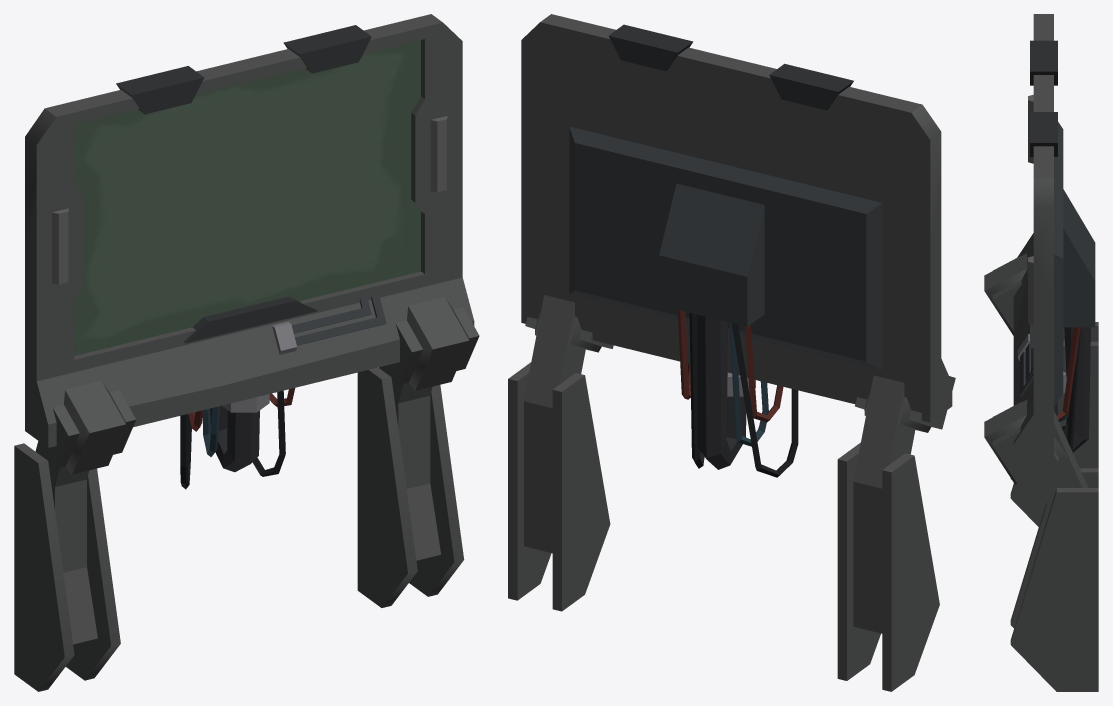
File: city_SM_Prop_Monitor_01.gltf
3 views of the same model, side by side, from view 1: azimuth 30°, elevation 25°; view 2: azimuth 150°, elevation 25°; view 3: azimuth 270°, elevation 25° (orthographic). The views are drawn at different scales.
Parts seen in each view (by area): view 1: SM_Prop_Monitor_01_Screen, SM_Prop_Monitor_01; view 2: SM_Prop_Monitor_01_Screen, SM_Prop_Monitor_01; view 3: SM_Prop_Monitor_01_Screen, SM_Prop_Monitor_01.
Boxes of the visible parts, box(x1,y1,x2,y2) form: SM_Prop_Monitor_01_Screen: box(25, 14, 479, 644); SM_Prop_Monitor_01: box(14, 367, 464, 691); SM_Prop_Monitor_01_Screen: box(521, 14, 955, 633); SM_Prop_Monitor_01: box(508, 362, 939, 691); SM_Prop_Monitor_01_Screen: box(984, 14, 1095, 513); SM_Prop_Monitor_01: box(1010, 322, 1098, 691).
Size of the model in its own units: 1.45 by 1.91 by 0.3844.
Materials: 1 (1 with a texture image).
